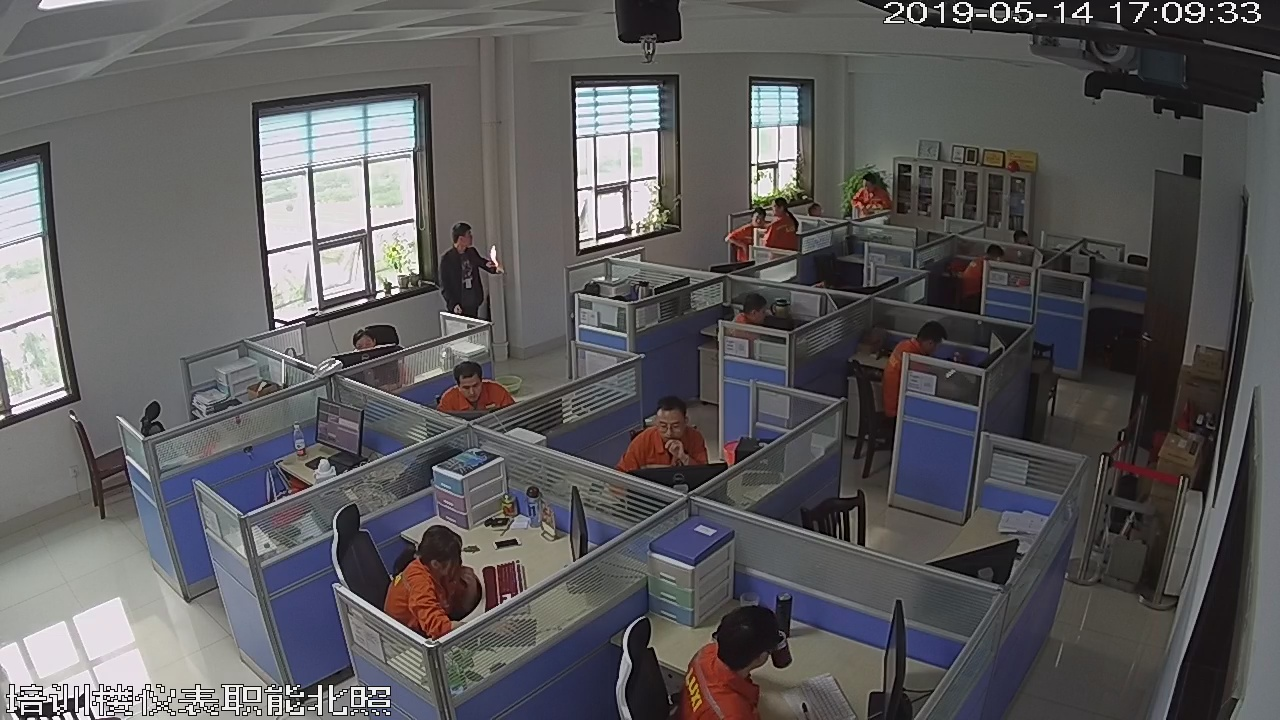fire: (489, 242, 501, 267)
